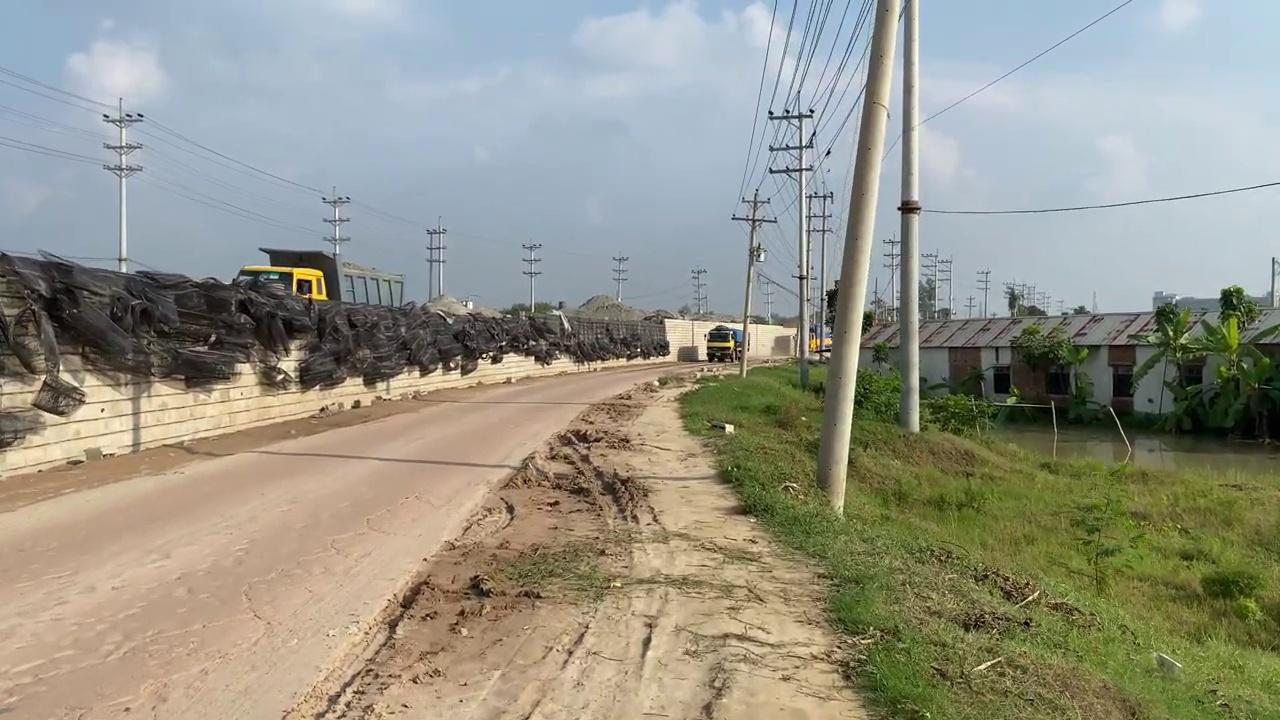Garbage: (0, 247, 671, 413)
Pole: (815, 0, 902, 517), (896, 0, 921, 434)
Sidewalk: (981, 421, 1278, 482)
Tree: (233, 246, 405, 308), (233, 265, 328, 301), (808, 314, 871, 353), (704, 324, 745, 362), (808, 322, 832, 353)
